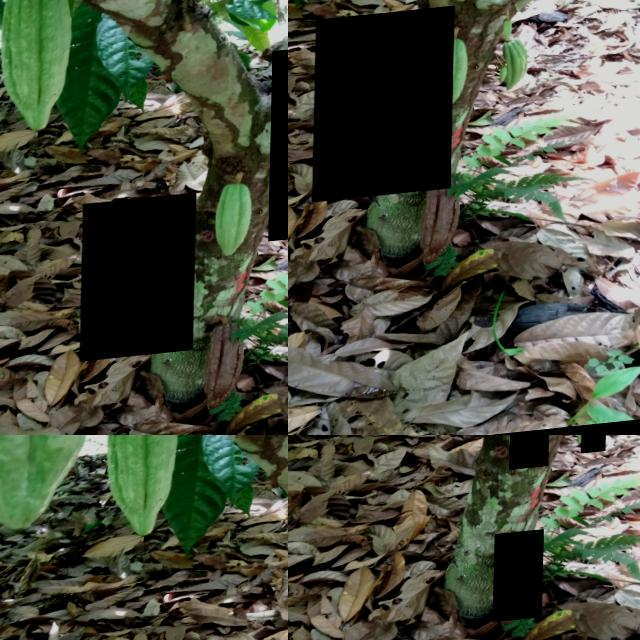Fitoftora: (82, 200, 197, 366), (495, 538, 546, 629)
Monilia: (314, 14, 455, 207)
Sana: (510, 435, 550, 477), (582, 435, 607, 462)
